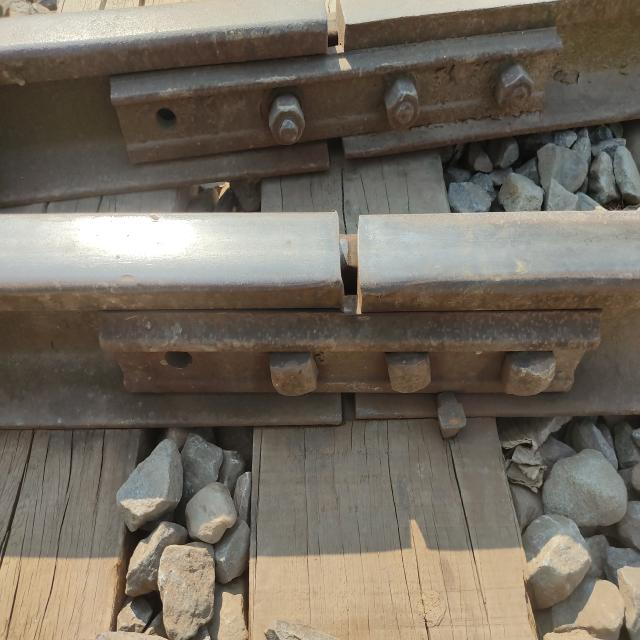Faults: (323, 199, 373, 322), (312, 0, 365, 58), (155, 345, 202, 382), (146, 105, 187, 138)
